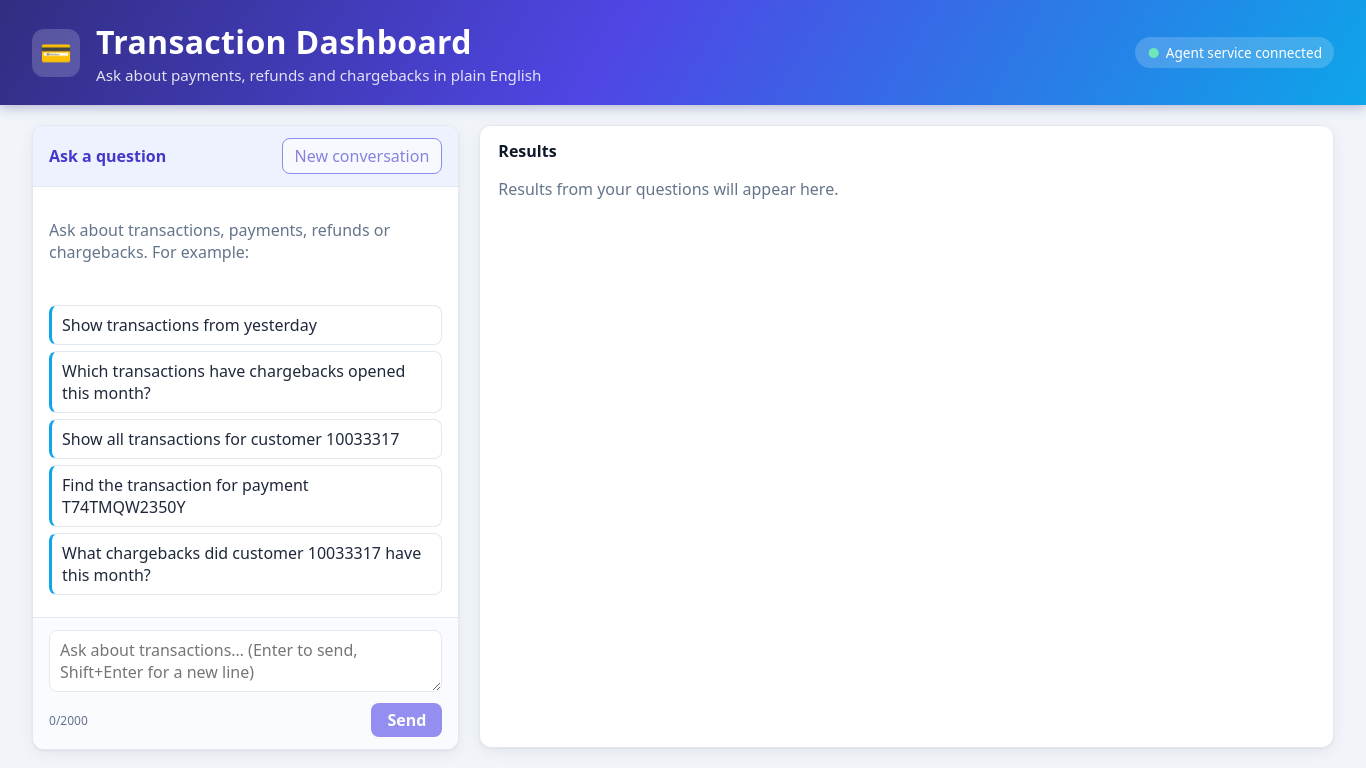
Test: chat panel › renders Claude's Markdown: bold, lists and tables, but never images
Type "Rogers chargebacks" into the text box named "Your question" at (246, 661), box [49, 630, 442, 692]
Then press Enter
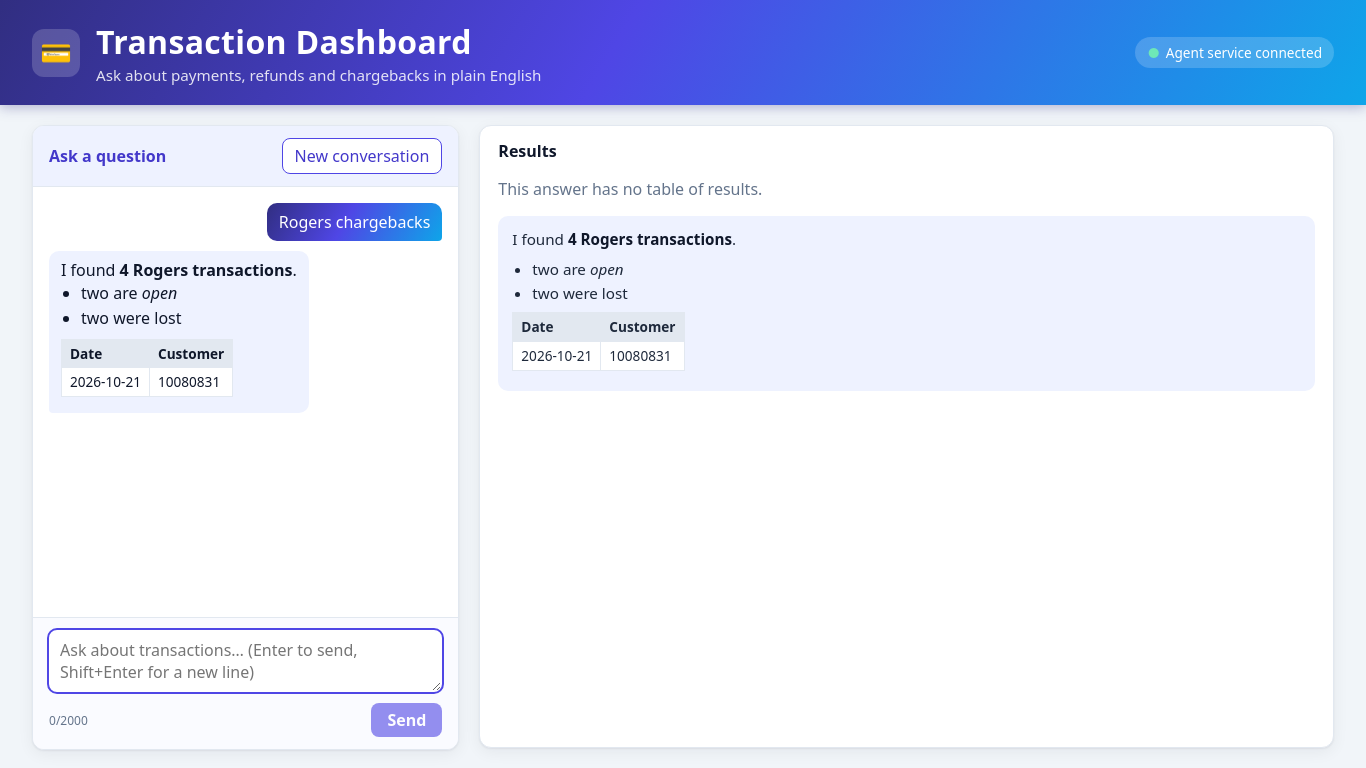
Expected: the element with class "message--assistant" is shown, [49, 251, 309, 413]
Expected: the 2nd cell "10080831" is shown, [150, 368, 233, 396]
